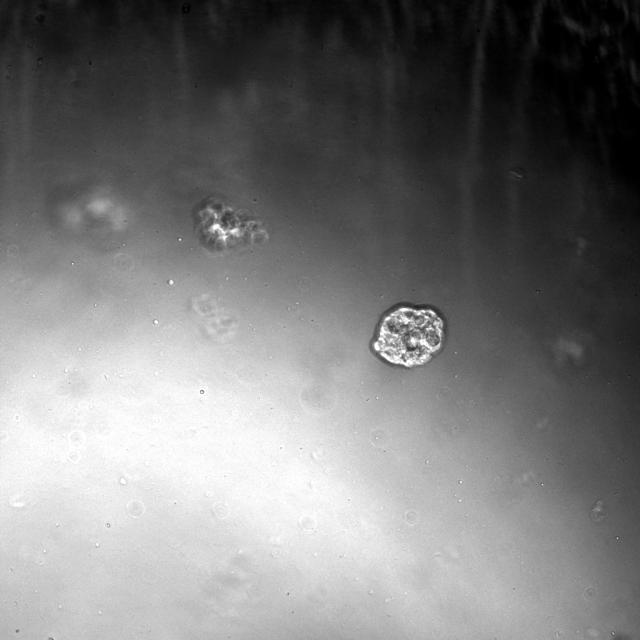organoid: (371, 303, 444, 368), (192, 195, 268, 252)
